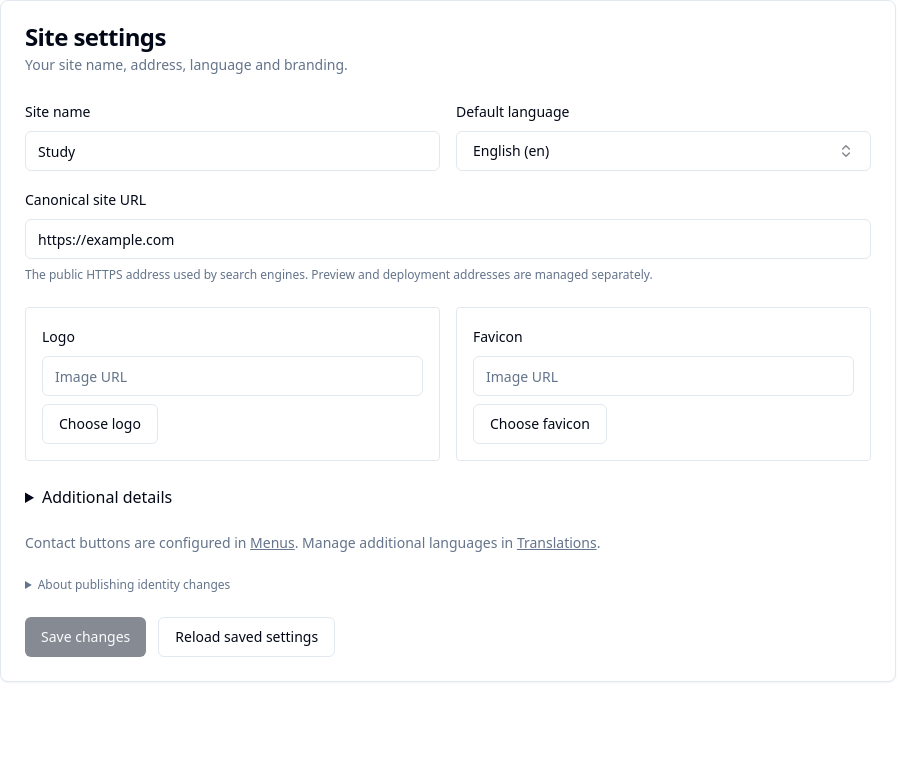
unified site settings › does not revise publication configuration for branding-only edits
The image size is (913, 768).
Expected: the field showing "Study" is shown, [25,131,440,171]
In the field labelled "Favicon": [664, 376] box [473,356,854,396], type "https://example.com/icon.png"
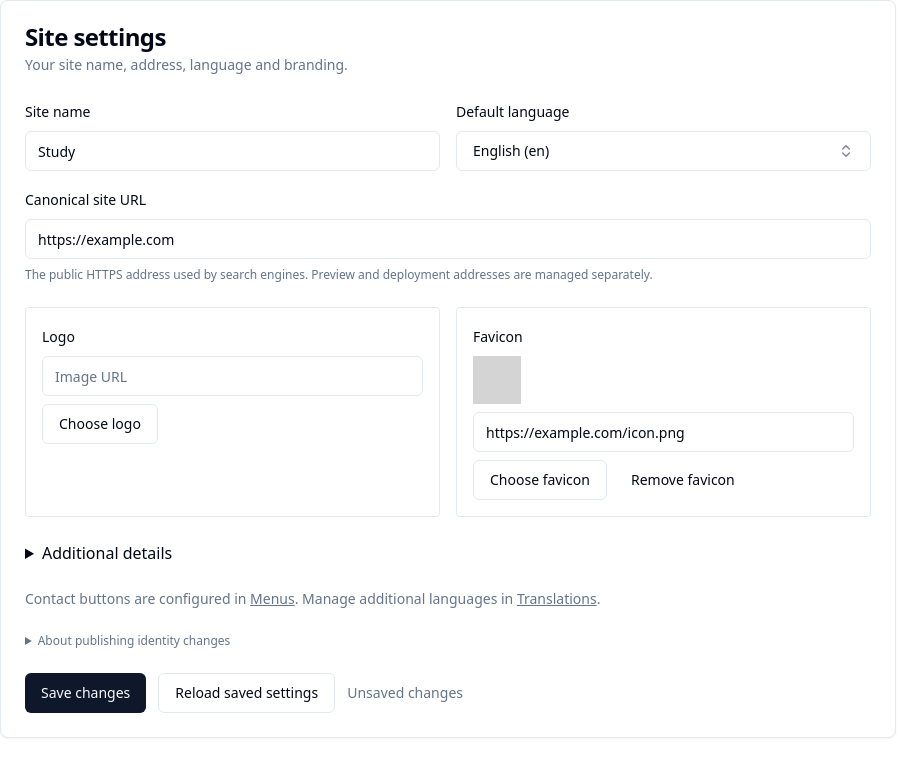
Click the button "Save changes": [86, 693] box [25,673,146,713]
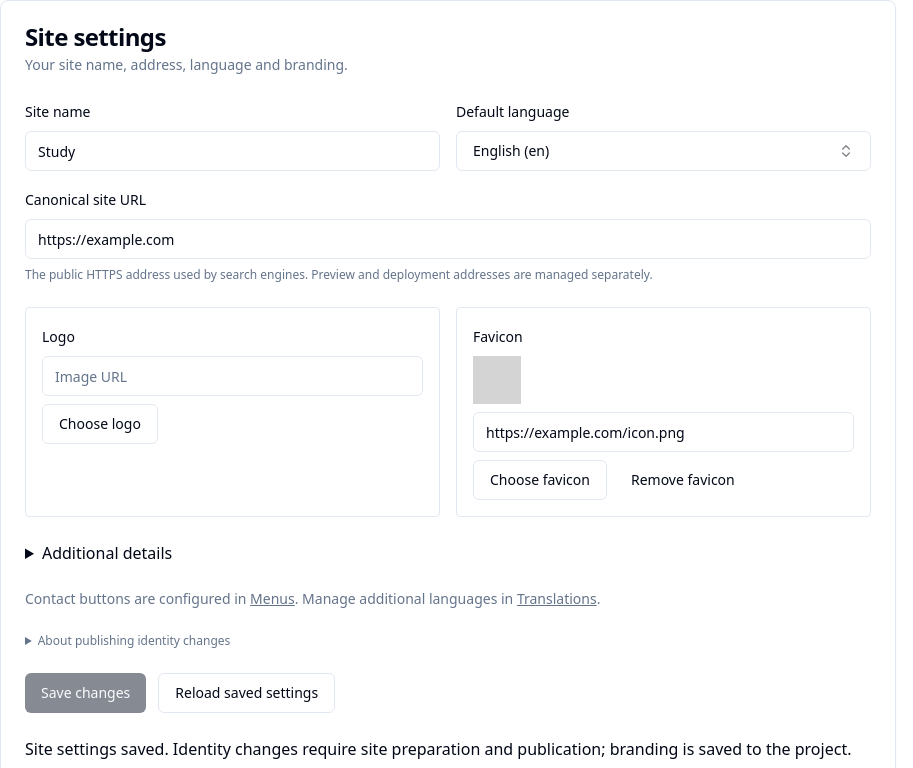
Expected: the text "Site settings saved" is shown, [25,738,852,760]
